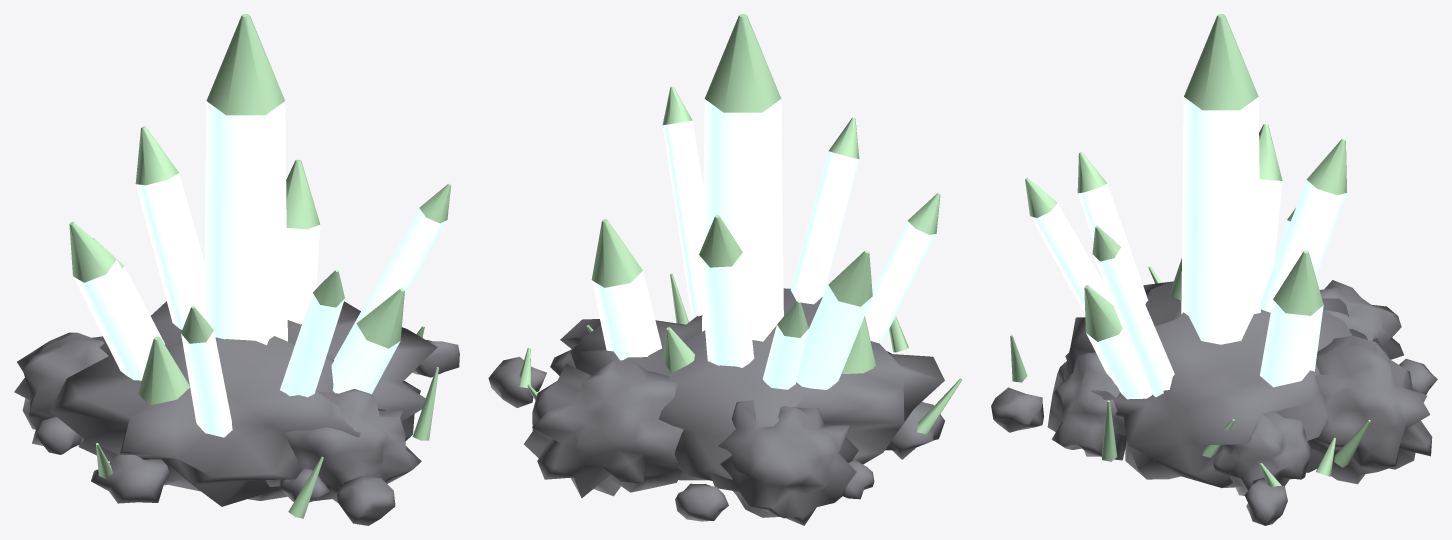
File: ore_uranium.fbx
The picture shows the model from 3 angles, left to right: view 1: azimuth 30°, elevation 25°; view 2: azimuth 150°, elevation 25°; view 3: azimuth 270°, elevation 25°; orthographic projection. The views are drawn at different scales.
Parts seen in each view (by area): view 1: ore_uranium; view 2: ore_uranium; view 3: ore_uranium.
Boxes of the visible parts, box(x1,y1,x2,y2) form: ore_uranium: box(14, 14, 459, 525); ore_uranium: box(488, 14, 962, 525); ore_uranium: box(991, 14, 1437, 525).
Size of the model in its own units: 1.37 by 1.43 by 1.32.
